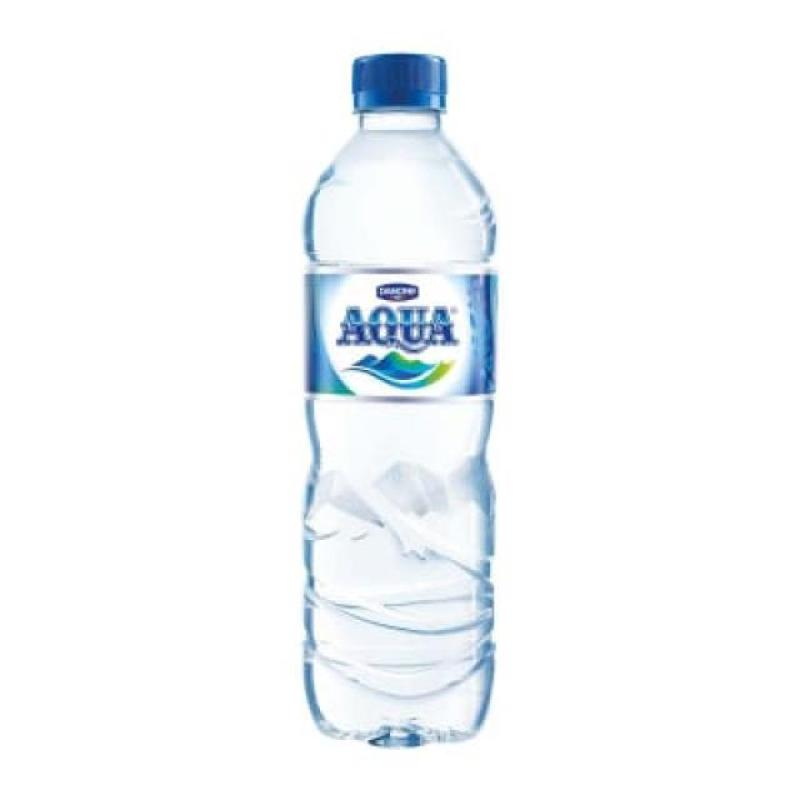botella: (303, 53, 496, 748)
